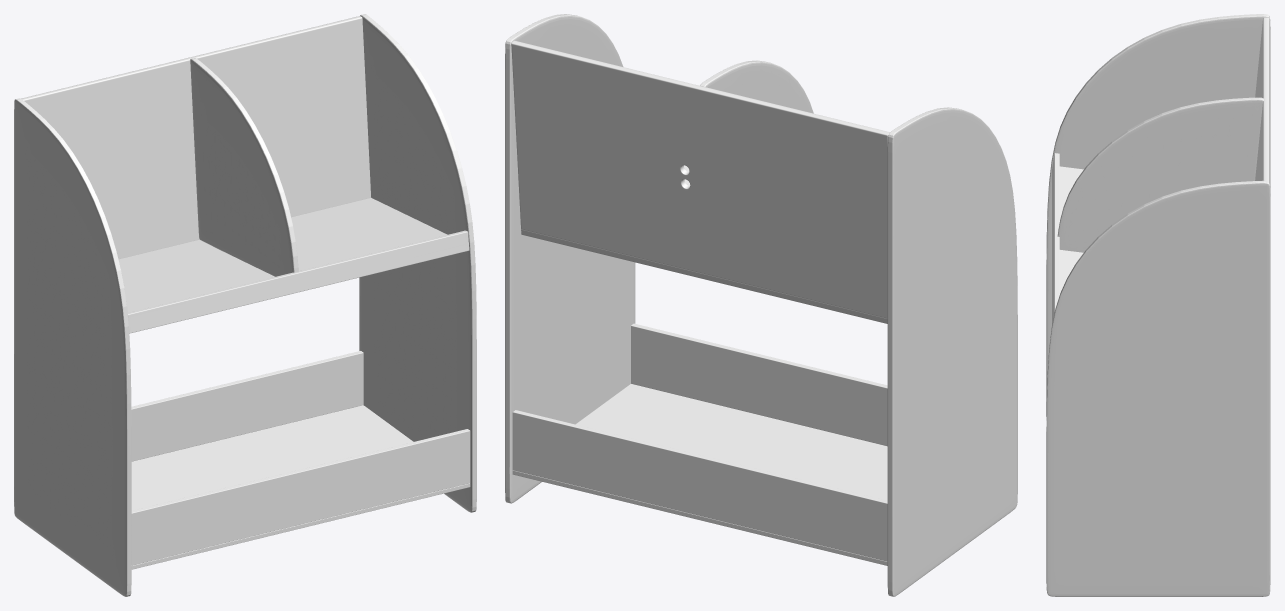
The model's file is table.glb.
The picture shows the model from 3 angles, left to right: view 1: azimuth 30°, elevation 25°; view 2: azimuth 150°, elevation 25°; view 3: azimuth 270°, elevation 25°; orthographic projection. The views are drawn at different scales.
Parts seen in each view (by area): view 1: MESH_Acrylic_Bookcase; view 2: MESH_Acrylic_Bookcase; view 3: MESH_Acrylic_Bookcase.
Part boxes in pixels (box(x1,y1,x2,y2)): MESH_Acrylic_Bookcase: box(14, 14, 476, 596); MESH_Acrylic_Bookcase: box(505, 14, 1017, 596); MESH_Acrylic_Bookcase: box(1046, 14, 1270, 596).
Bounding box in the file's own units: 0.6332 × 0.7227 × 0.3543.
Materials: 1 (1 with a texture image).
